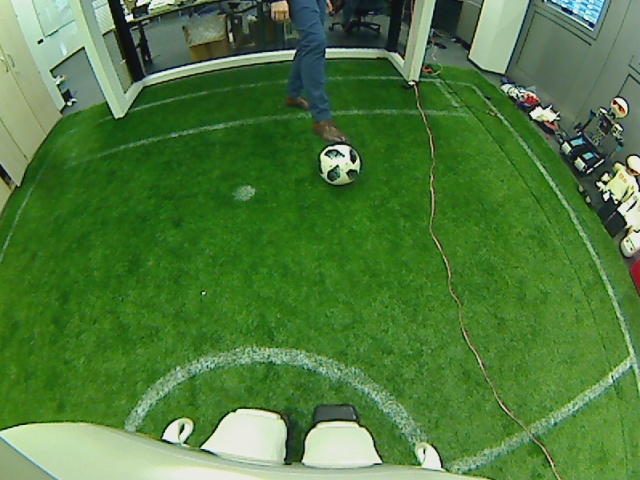ball: (316, 140, 361, 187)
